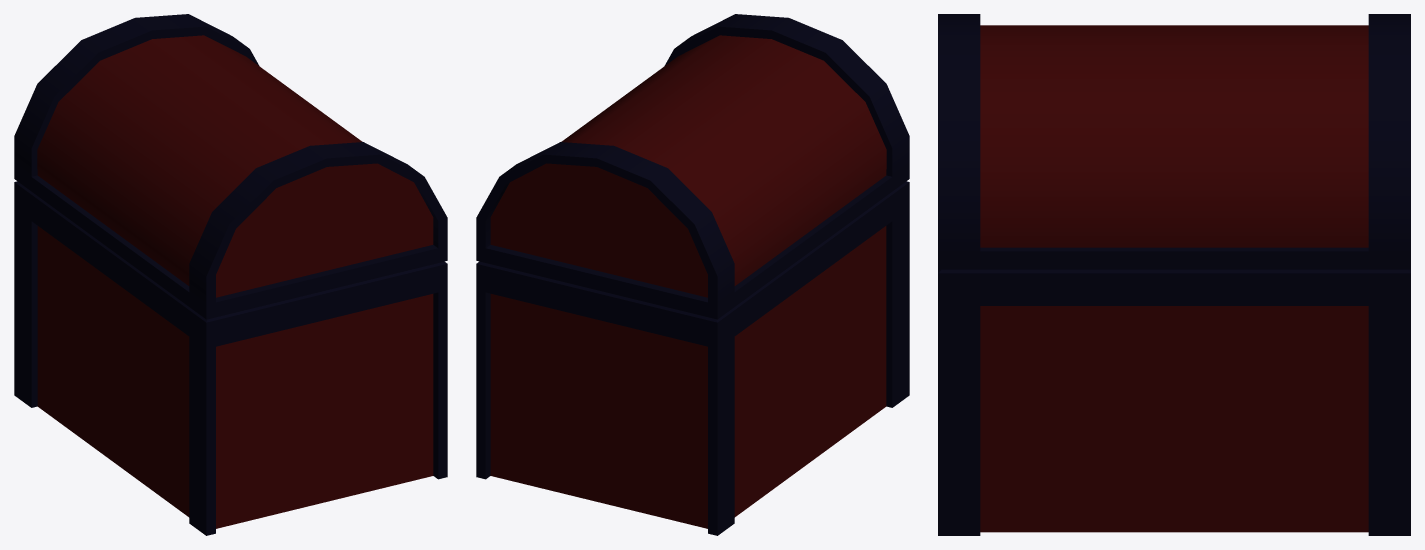
File: Chest right size.fbx
The picture shows the model from 3 angles, left to right: view 1: azimuth 30°, elevation 25°; view 2: azimuth 150°, elevation 25°; view 3: azimuth 270°, elevation 25°; orthographic projection. The views are drawn at different scales.
Visible parts, largest first — view 1: Cube.002; view 2: Cube.002; view 3: Cube.002.
Part boxes in pixels (x1,y1,x2,y2): Cube.002: (14, 14, 447, 535); Cube.002: (476, 14, 909, 535); Cube.002: (938, 14, 1410, 535).
Bounding box in the file's own units: 72.98 × 101 × 101.
